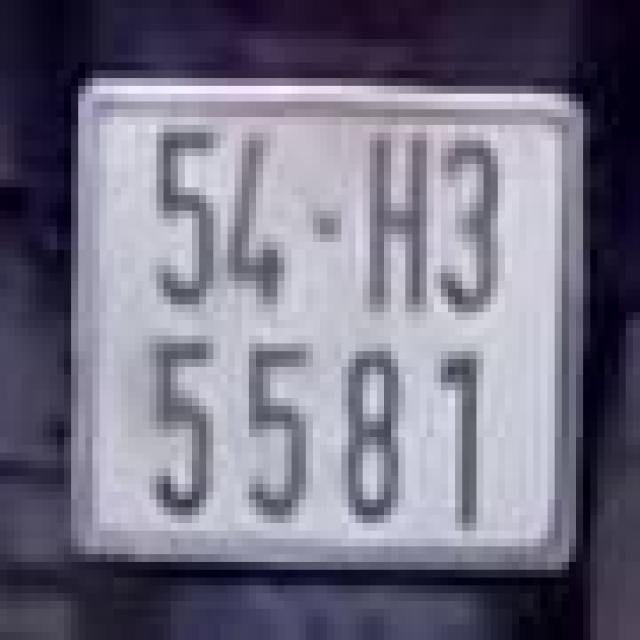1: (437, 343, 487, 531)
3: (431, 125, 502, 328)
4: (228, 121, 292, 316)
5: (231, 332, 317, 534), (142, 328, 228, 523), (142, 121, 220, 316)
8: (342, 347, 406, 527)
H: (352, 121, 437, 324)
